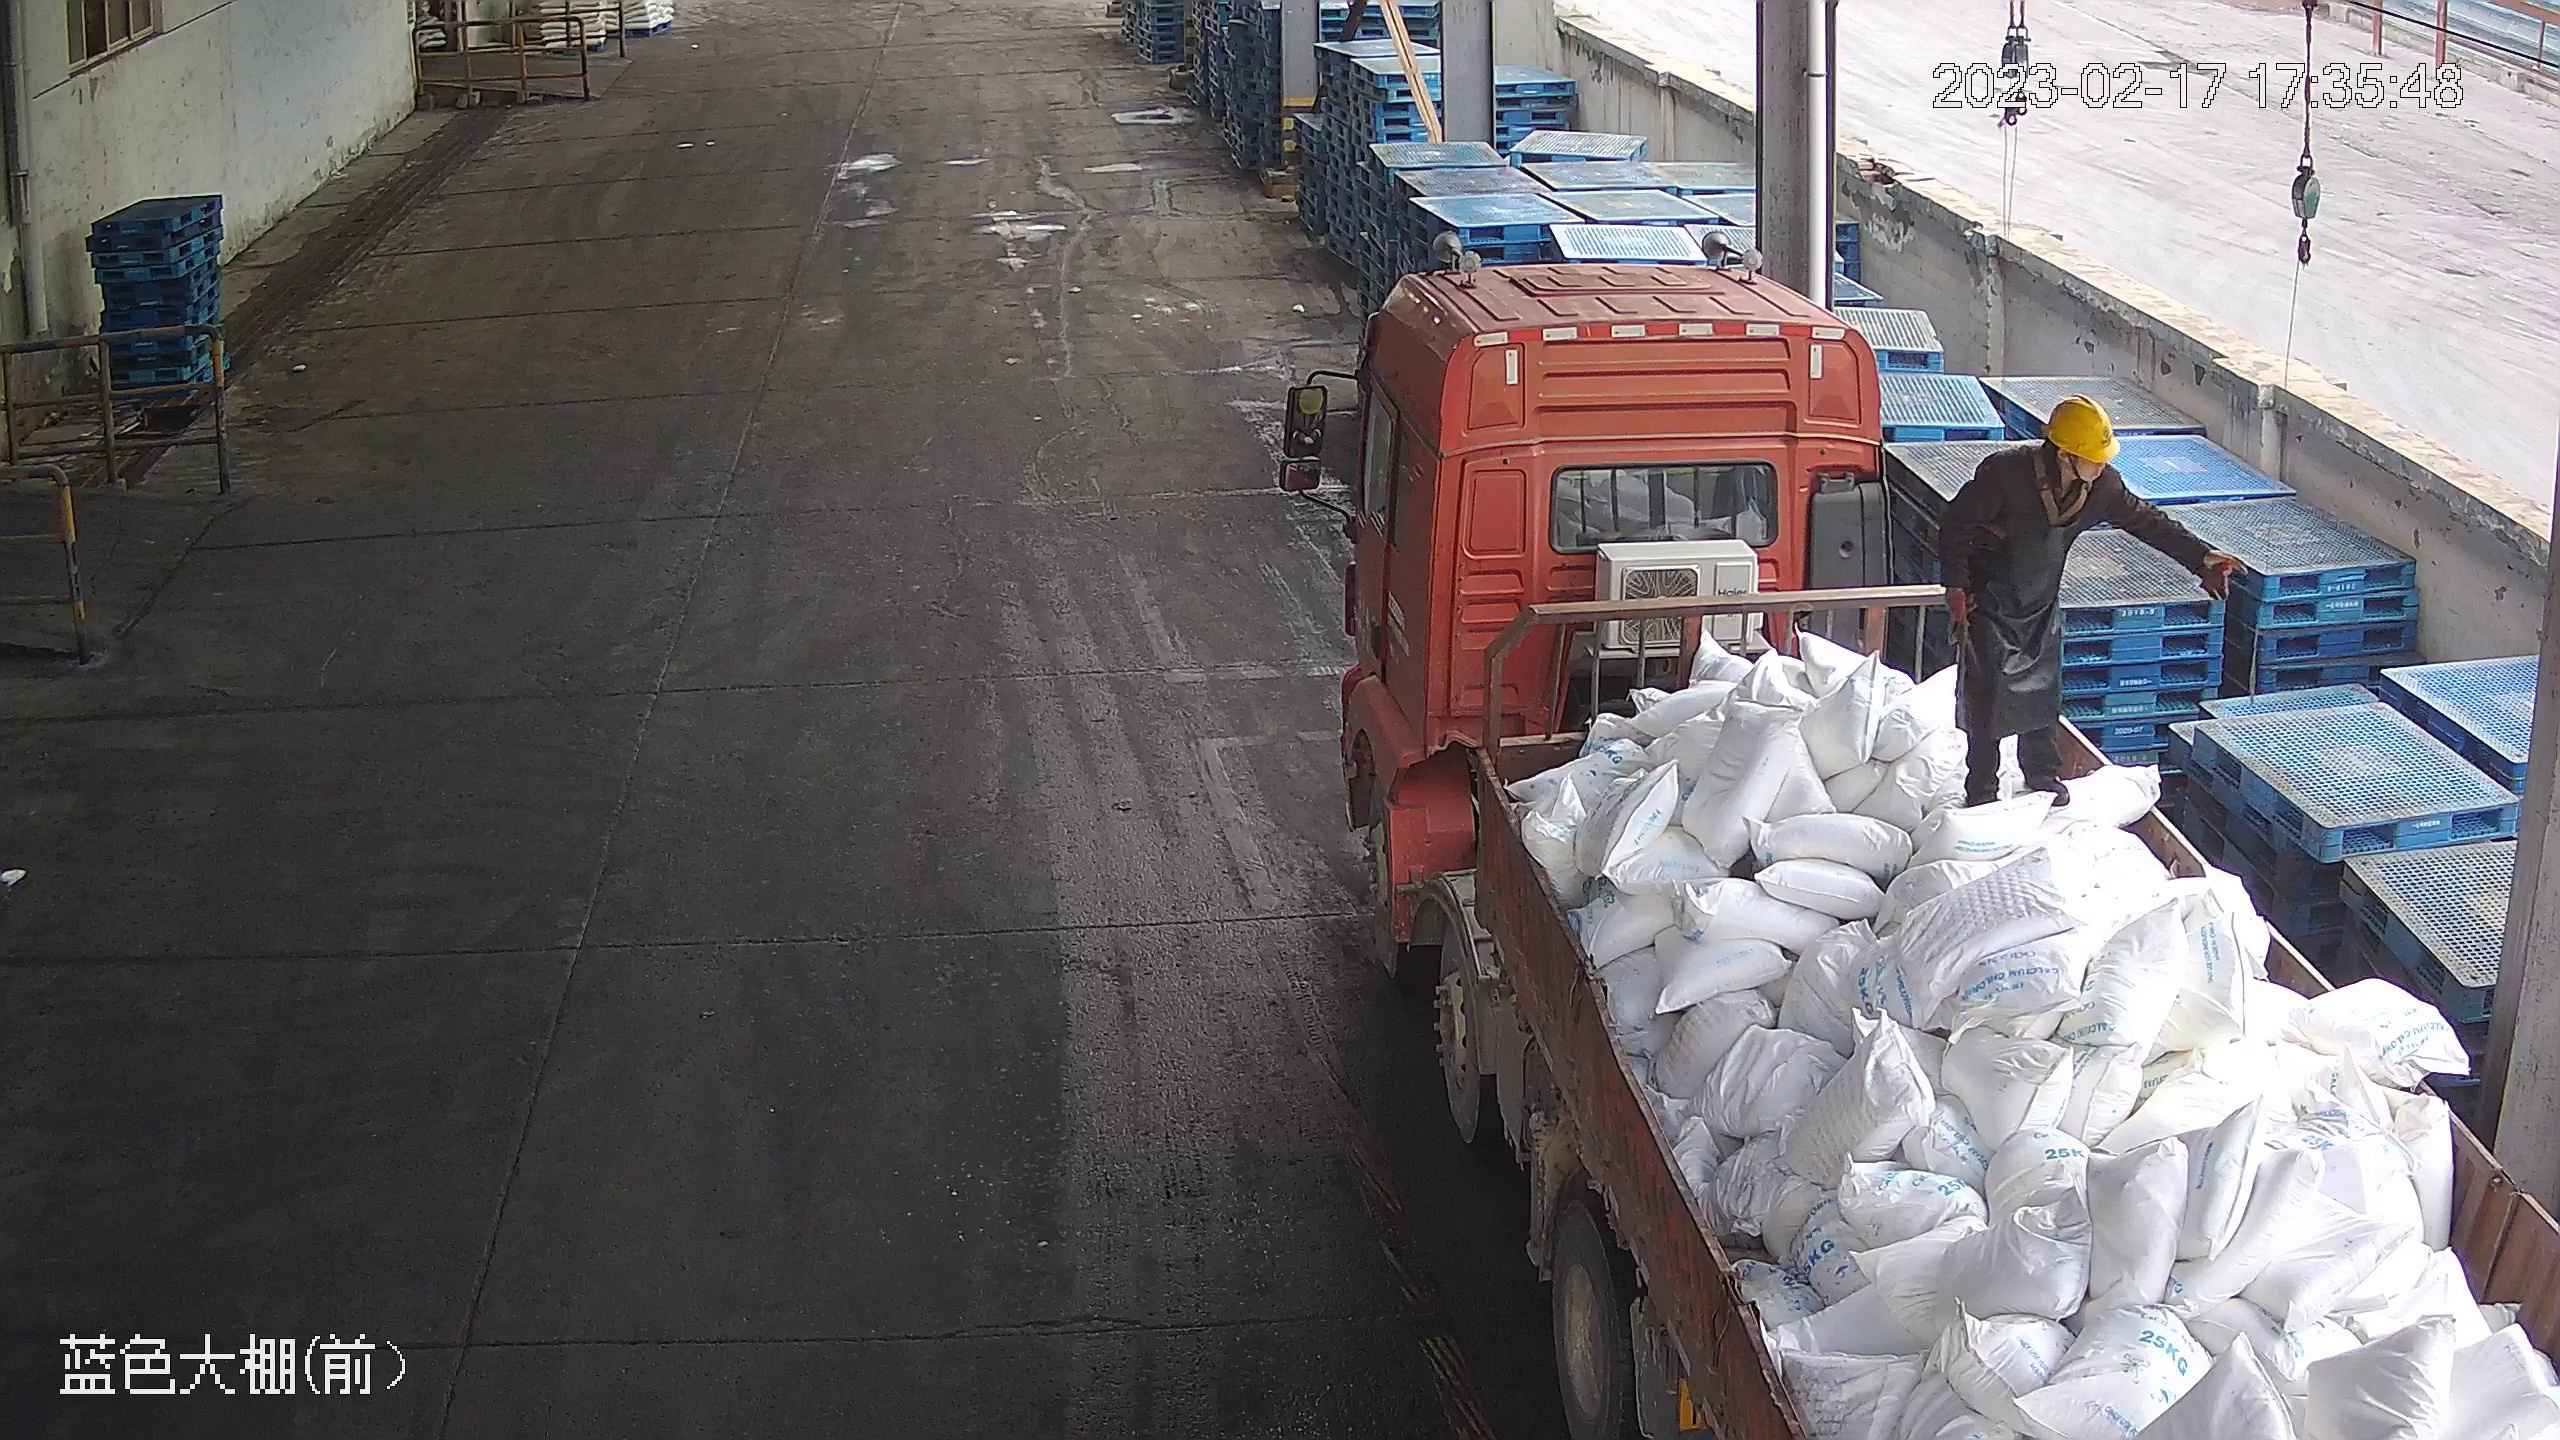belt: (2013, 454, 2094, 528)
head: (1973, 396, 2132, 537)
helmet: (2039, 394, 2123, 462)
people: (1935, 393, 2236, 816)
truck: (1278, 214, 2559, 1438)
